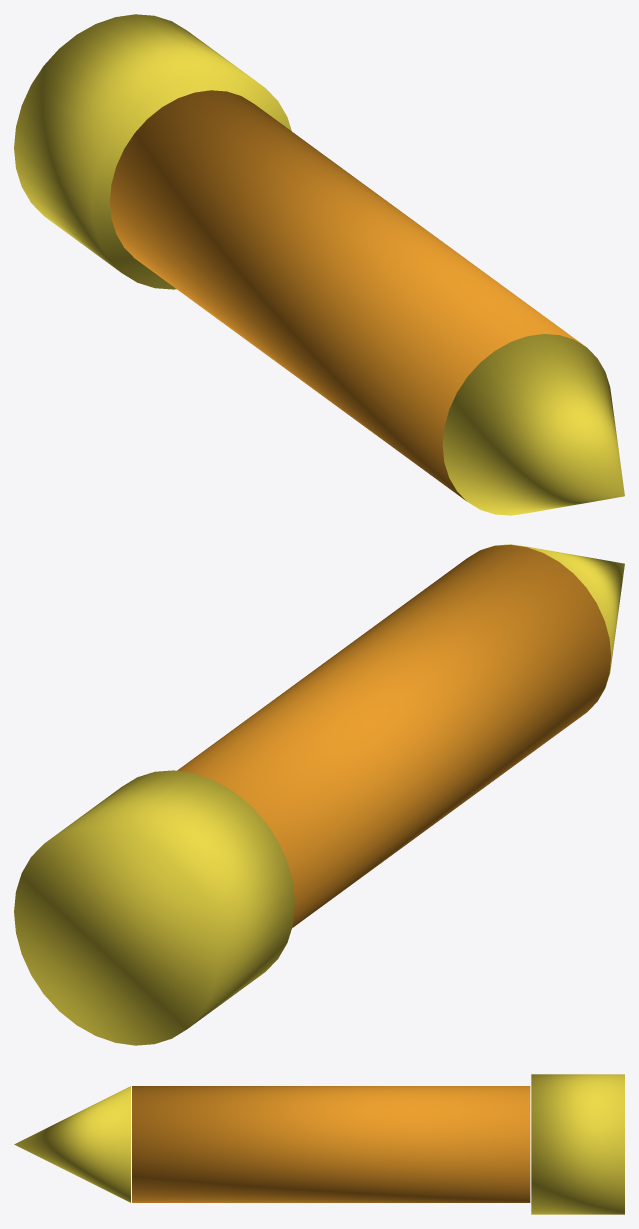
The model's file is bullet.fbx.
3 views of the same model, one above another, from view 1: azimuth 30°, elevation 25°; view 2: azimuth 150°, elevation 25°; view 3: azimuth 270°, elevation 25° (orthographic). The views are drawn at different scales.
Parts seen in each view (by area): view 1: Cylinder, Cylinder.001, Cone; view 2: Cylinder, Cylinder.001, Cone; view 3: Cylinder, Cylinder.001, Cone.
Boxes of the visible parts, <box> form: Cylinder: <box>110,90,585,501</box>; Cylinder.001: <box>14,14,291,289</box>; Cone: <box>442,334,624,515</box>; Cylinder: <box>177,545,611,927</box>; Cylinder.001: <box>14,770,295,1045</box>; Cone: <box>479,544,624,711</box>; Cylinder: <box>132,1086,530,1202</box>; Cylinder.001: <box>531,1074,624,1214</box>; Cone: <box>14,1086,130,1202</box>.
Size of the model in its own units: 0.24 by 0.24 by 1.04.
